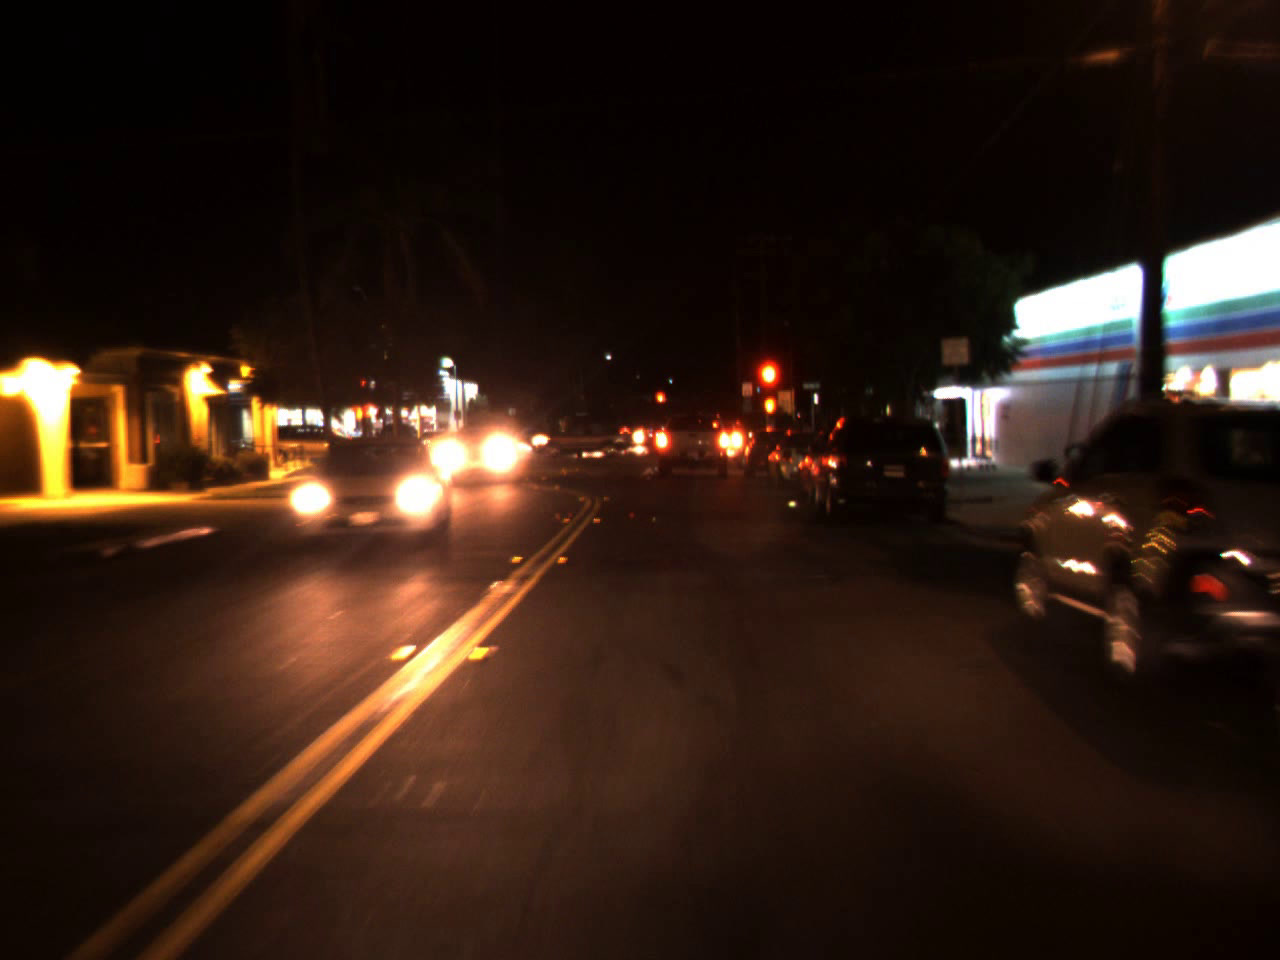stop: (752, 354, 785, 426), (655, 389, 667, 416)
